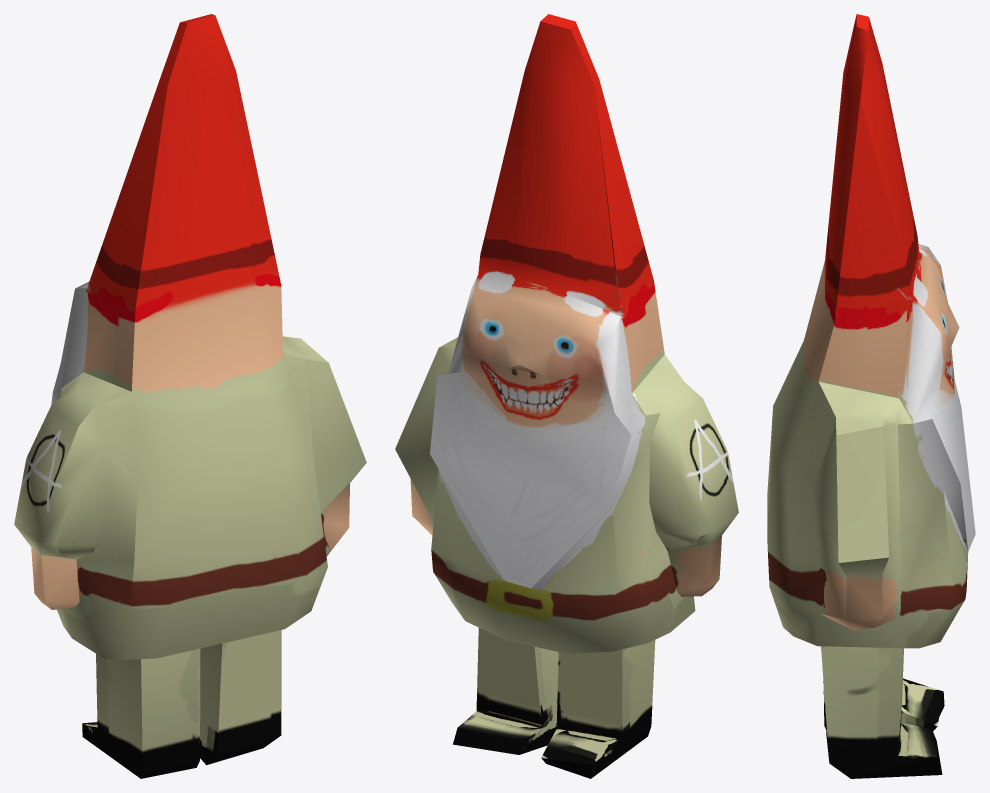
The model's file is Гном 387.fbx.
3 renders of one model, left to right at view 1: azimuth 30°, elevation 25°; view 2: azimuth 150°, elevation 25°; view 3: azimuth 270°, elevation 25°, orthographic. The views are drawn at different scales.
Parts seen in each view (by area): view 1: Плоскость.006; view 2: Плоскость.006; view 3: Плоскость.006.
Part boxes in pixels (<box>): Плоскость.006: <box>14,14,366,778</box>; Плоскость.006: <box>395,14,738,778</box>; Плоскость.006: <box>767,14,975,778</box>.
Bounding box in the file's own units: 0.426 × 0.9253 × 0.2376.
1 material, 1 textured.
